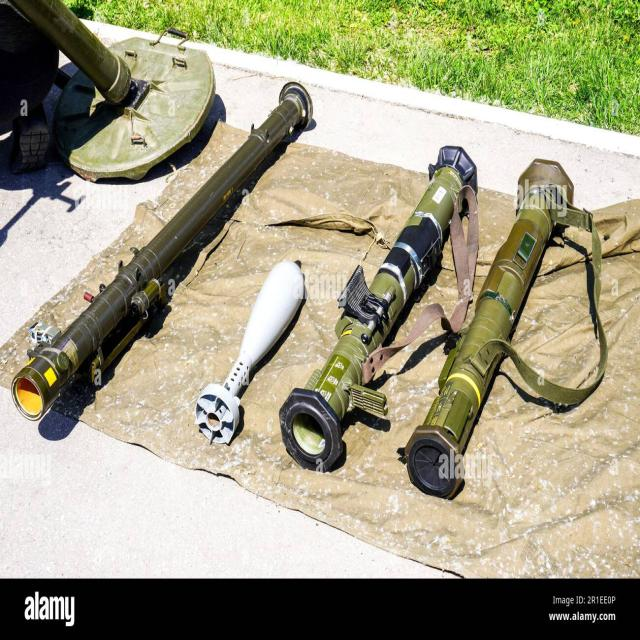bazooka: (7, 83, 583, 500)
